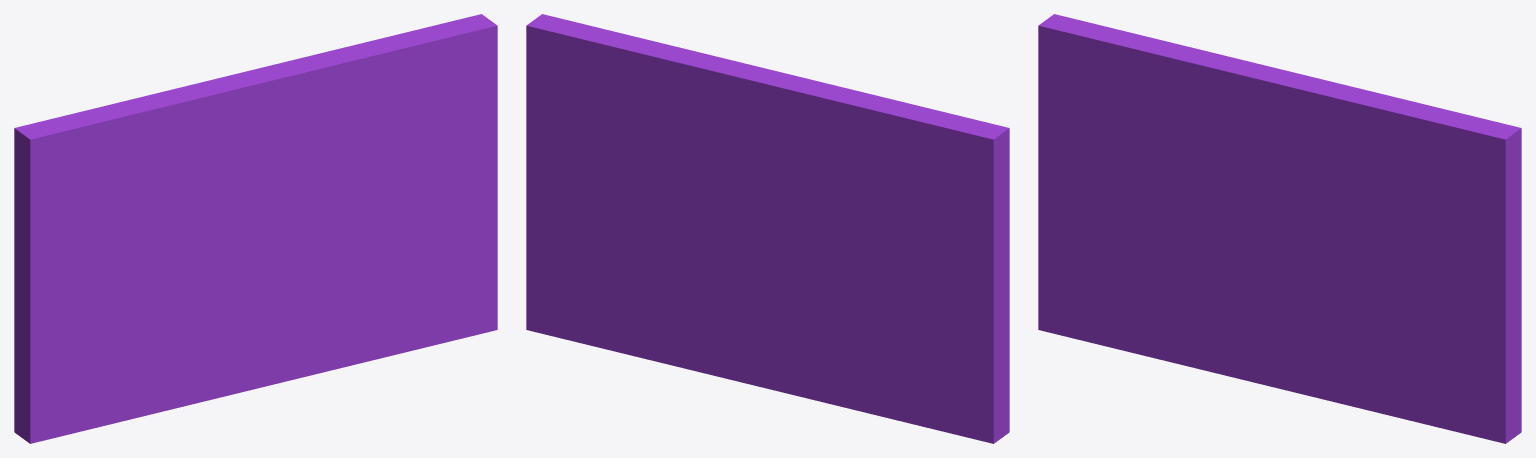
File: Barrier_95_chunks.fbx
The picture shows the model from 3 angles, left to right: view 1: azimuth 30°, elevation 25°; view 2: azimuth 150°, elevation 25°; view 3: azimuth 330°, elevation 25°; orthographic projection.
Visible parts, largest first — view 1: Barrier_95_0, Barrier_95_1, Barrier_95_5, Barrier_95_3, Barrier_95_6, Barrier_95_4; view 2: Barrier_95_0, Barrier_95_1, Barrier_95_5, Barrier_95_3, Barrier_95_2, Barrier_95_6, Barrier_95_4; view 3: Barrier_95_0, Barrier_95_1, Barrier_95_5, Barrier_95_3, Barrier_95_6, Barrier_95_4.
Part boxes in pixels (x1,y1,x2,y2): Barrier_95_0: (14, 100, 259, 443); Barrier_95_1: (205, 141, 497, 400); Barrier_95_5: (127, 64, 332, 233); Barrier_95_3: (347, 14, 497, 135); Barrier_95_6: (255, 44, 418, 153); Barrier_95_4: (299, 130, 497, 217); Barrier_95_0: (771, 101, 1009, 443); Barrier_95_1: (526, 146, 808, 398); Barrier_95_5: (677, 73, 900, 220); Barrier_95_3: (526, 14, 687, 160); Barrier_95_2: (609, 178, 772, 285); Barrier_95_6: (621, 33, 782, 114); Barrier_95_4: (563, 155, 701, 202); Barrier_95_0: (1038, 14, 1267, 372); Barrier_95_1: (1214, 231, 1521, 443); Barrier_95_5: (1147, 41, 1340, 235); Barrier_95_3: (1386, 95, 1521, 253); Barrier_95_6: (1264, 77, 1427, 187); Barrier_95_4: (1307, 187, 1508, 254).
Bounding box in the file's own units: 462 × 288 × 27.2.
